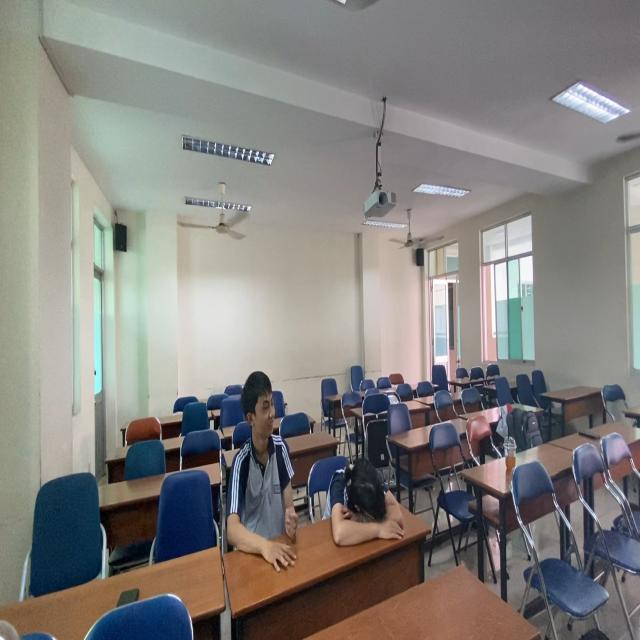sleep: (322, 452, 410, 553)
